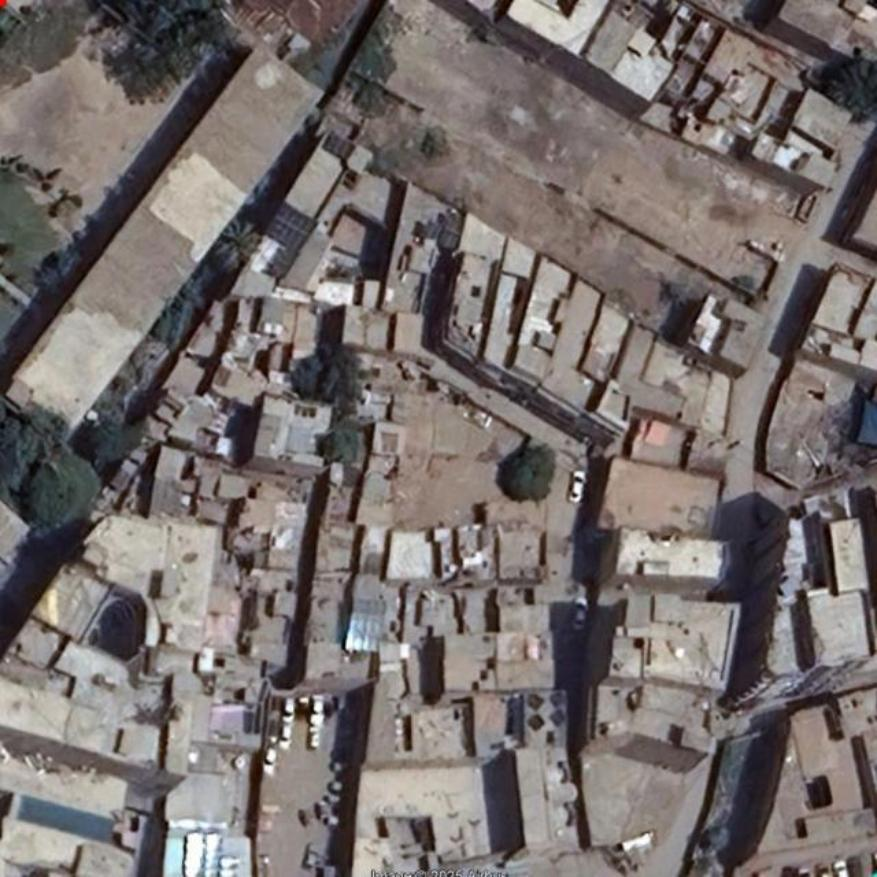Solarpanel: (264, 202, 321, 255), (345, 596, 382, 654), (323, 129, 358, 160)
